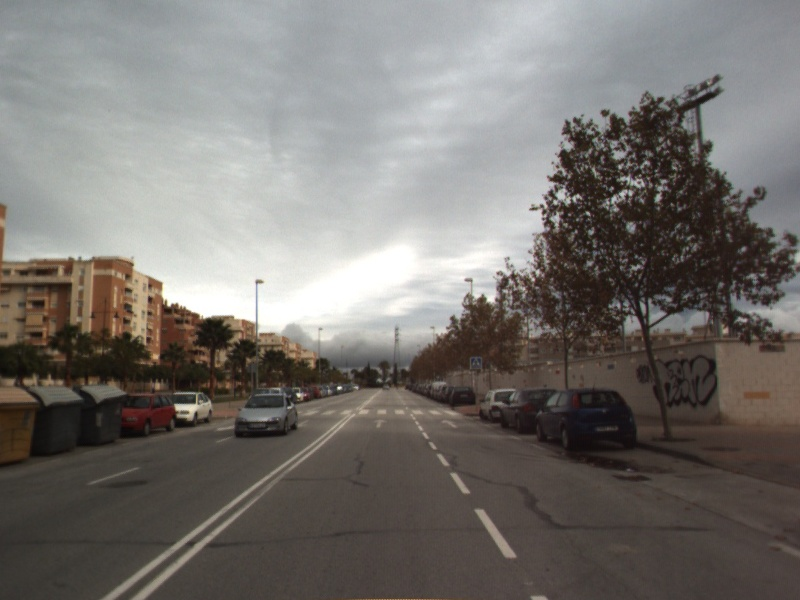STRAIGHT: (439, 417, 461, 430), (372, 417, 390, 430)
